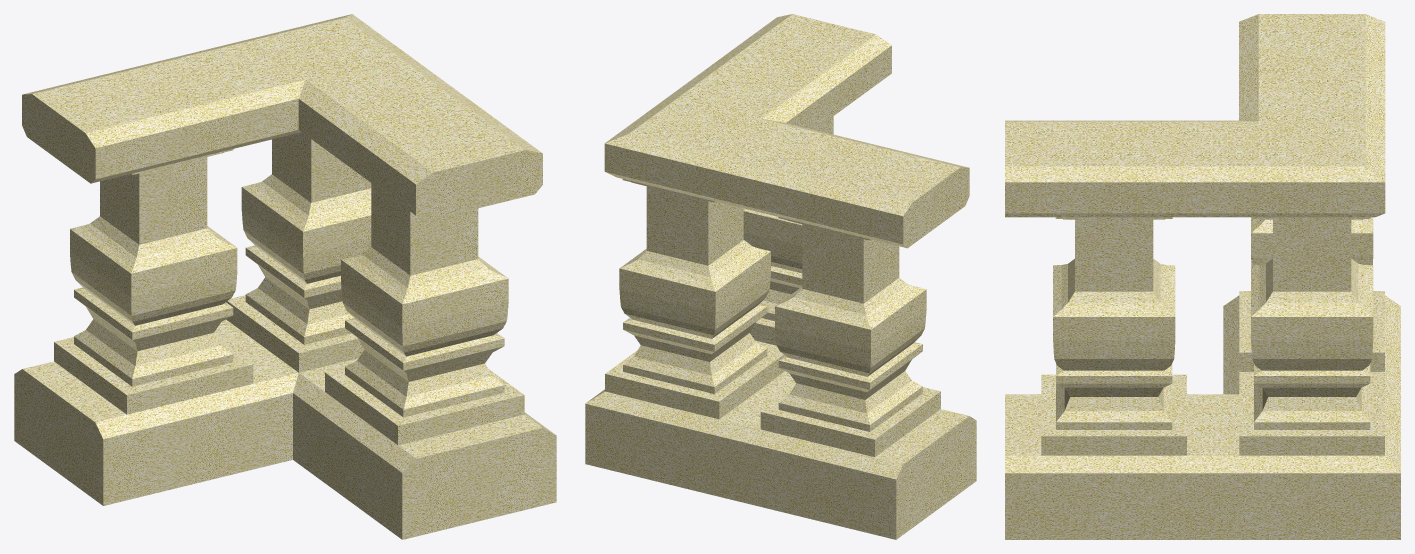
File: sh-contrib-column-balustrade-corner.glb
The picture shows the model from 3 angles, left to right: view 1: azimuth 30°, elevation 25°; view 2: azimuth 150°, elevation 25°; view 3: azimuth 270°, elevation 25°; orthographic projection. The views are drawn at different scales.
Visible parts, largest first — view 1: 4_4; view 2: 4_4; view 3: 4_4.
Part boxes in pixels (x1=…): 4_4: x1=14, y1=14, x2=556, y2=539; 4_4: x1=585, y1=14, x2=976, y2=539; 4_4: x1=1005, y1=14, x2=1400, y2=539.
Bounding box in the file's own units: 1 × 1 × 1.
1 material, 1 textured.
